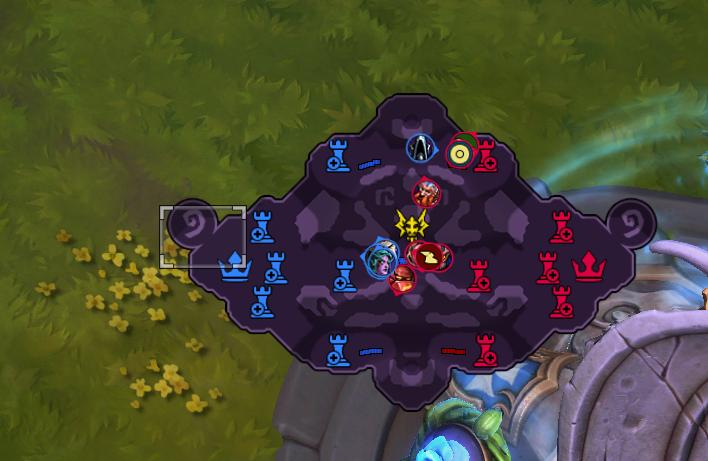blue player: (362, 240, 399, 280), (405, 133, 436, 163)
blue tower: (261, 250, 289, 284), (248, 209, 275, 243), (325, 137, 351, 172), (324, 332, 350, 367), (249, 285, 275, 318)
red nexus: (570, 249, 607, 282)
red player: (405, 240, 451, 272), (444, 137, 477, 170), (411, 178, 441, 209), (387, 263, 416, 294), (430, 243, 453, 272)
red tower: (471, 136, 499, 172), (471, 332, 498, 368), (465, 257, 491, 293), (548, 284, 574, 319), (534, 250, 560, 284), (549, 209, 574, 243)
